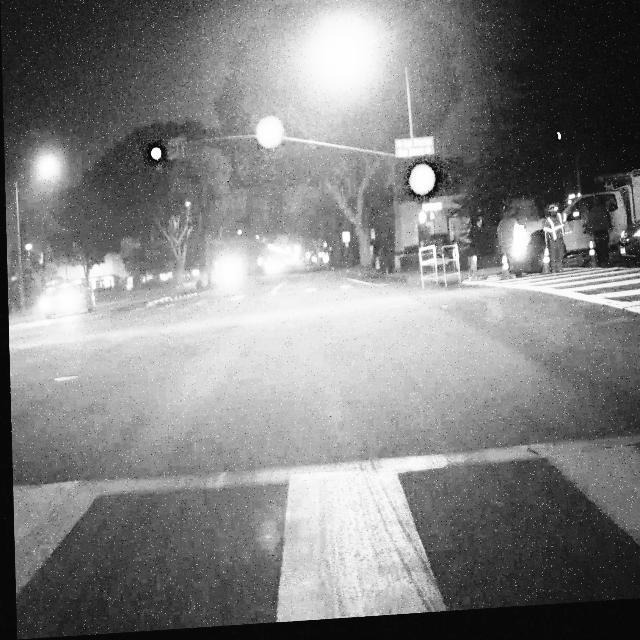Truck: (520, 174, 640, 280)
